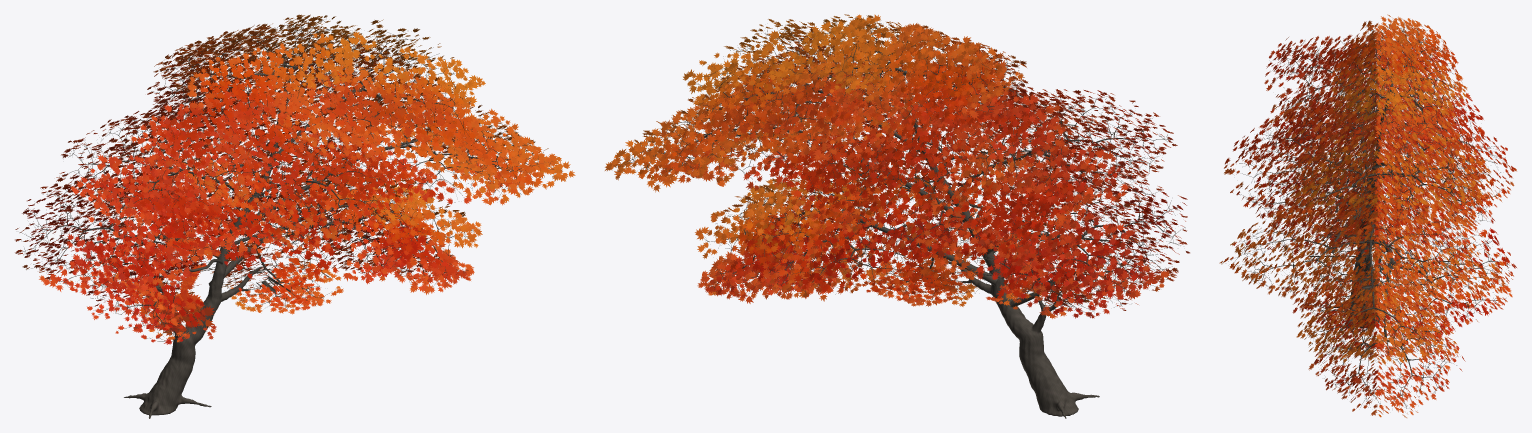
File: wish-tree-canopy-r06-web.glb
The picture shows the model from 3 angles, left to right: view 1: azimuth 30°, elevation 25°; view 2: azimuth 150°, elevation 25°; view 3: azimuth 270°, elevation 25°; orthographic projection. The views are drawn at different scales.
Parts seen in each view (by area): view 1: CANOPY_heart, CANOPY_crown, CANOPY_upper-left, CANOPY_right-upper, CANOPY_left-shelf, CANOPY_right-middle, CANOPY_lower-heart, WOOD_natural_trunk, CANOPY_left-lower, CANOPY_right-fall, CANOPY_lower-fall, TWIGS_heart (+9 smaller); view 2: CANOPY_heart, CANOPY_crown, CANOPY_left-shelf, CANOPY_upper-left, CANOPY_right-upper, CANOPY_lower-heart, CANOPY_right-middle, WOOD_natural_trunk, CANOPY_right-fall, CANOPY_left-lower, CANOPY_right-reach, CANOPY_lower-fall (+8 smaller); view 3: CANOPY_crown, CANOPY_heart, CANOPY_right-upper, CANOPY_right-middle, CANOPY_lower-heart, CANOPY_right-fall, CANOPY_upper-left, CANOPY_right-reach, CANOPY_left-shelf, TWIGS_right-middle, TWIGS_heart, TWIGS_right-upper (+8 smaller).
Part boxes in pixels (bbox=[...]): CANOPY_heart: bbox=[146, 86, 400, 267]; CANOPY_crown: bbox=[142, 14, 391, 141]; CANOPY_upper-left: bbox=[56, 102, 270, 219]; CANOPY_right-upper: bbox=[280, 19, 485, 158]; CANOPY_left-shelf: bbox=[15, 178, 220, 295]; CANOPY_right-middle: bbox=[319, 65, 557, 205]; CANOPY_lower-heart: bbox=[213, 148, 427, 284]; WOOD_natural_trunk: bbox=[93, 43, 484, 418]; CANOPY_left-lower: bbox=[86, 238, 252, 344]; CANOPY_right-fall: bbox=[346, 179, 482, 294]; CANOPY_lower-fall: bbox=[210, 236, 343, 314]; TWIGS_heart: bbox=[154, 98, 390, 255]; CANOPY_heart: bbox=[793, 79, 1069, 265]; CANOPY_crown: bbox=[777, 14, 1060, 134]; CANOPY_left-shelf: bbox=[975, 168, 1189, 299]; CANOPY_upper-left: bbox=[941, 87, 1177, 204]; CANOPY_right-upper: bbox=[683, 19, 904, 157]; CANOPY_lower-heart: bbox=[744, 145, 973, 301]; CANOPY_right-middle: bbox=[652, 47, 890, 195]; WOOD_natural_trunk: bbox=[689, 43, 1121, 418]; CANOPY_right-fall: bbox=[695, 178, 833, 303]; CANOPY_left-lower: bbox=[949, 223, 1166, 318]; CANOPY_right-reach: bbox=[605, 98, 777, 192]; CANOPY_lower-fall: bbox=[845, 251, 990, 306]; CANOPY_crown: bbox=[1313, 14, 1467, 139]; CANOPY_heart: bbox=[1224, 96, 1516, 241]; CANOPY_right-upper: bbox=[1274, 134, 1492, 233]; CANOPY_right-middle: bbox=[1219, 201, 1481, 300]; CANOPY_lower-heart: bbox=[1274, 223, 1516, 349]; CANOPY_right-fall: bbox=[1308, 296, 1465, 417]; CANOPY_upper-left: bbox=[1264, 33, 1449, 121]; CANOPY_right-reach: bbox=[1293, 295, 1447, 363]; CANOPY_left-shelf: bbox=[1278, 89, 1483, 180]; TWIGS_right-middle: bbox=[1228, 208, 1475, 294]; TWIGS_heart: bbox=[1230, 100, 1502, 239]; TWIGS_right-upper: bbox=[1281, 142, 1484, 225].
Bounding box in the file's own units: 11.31 × 7.19 × 5.74.
3 materials, 3 textured.
